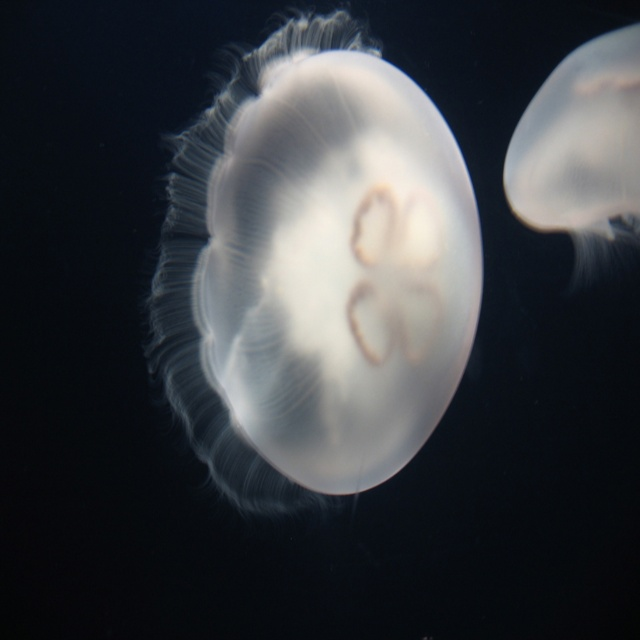Jellyfish: (162, 10, 508, 513), (502, 22, 639, 274)
